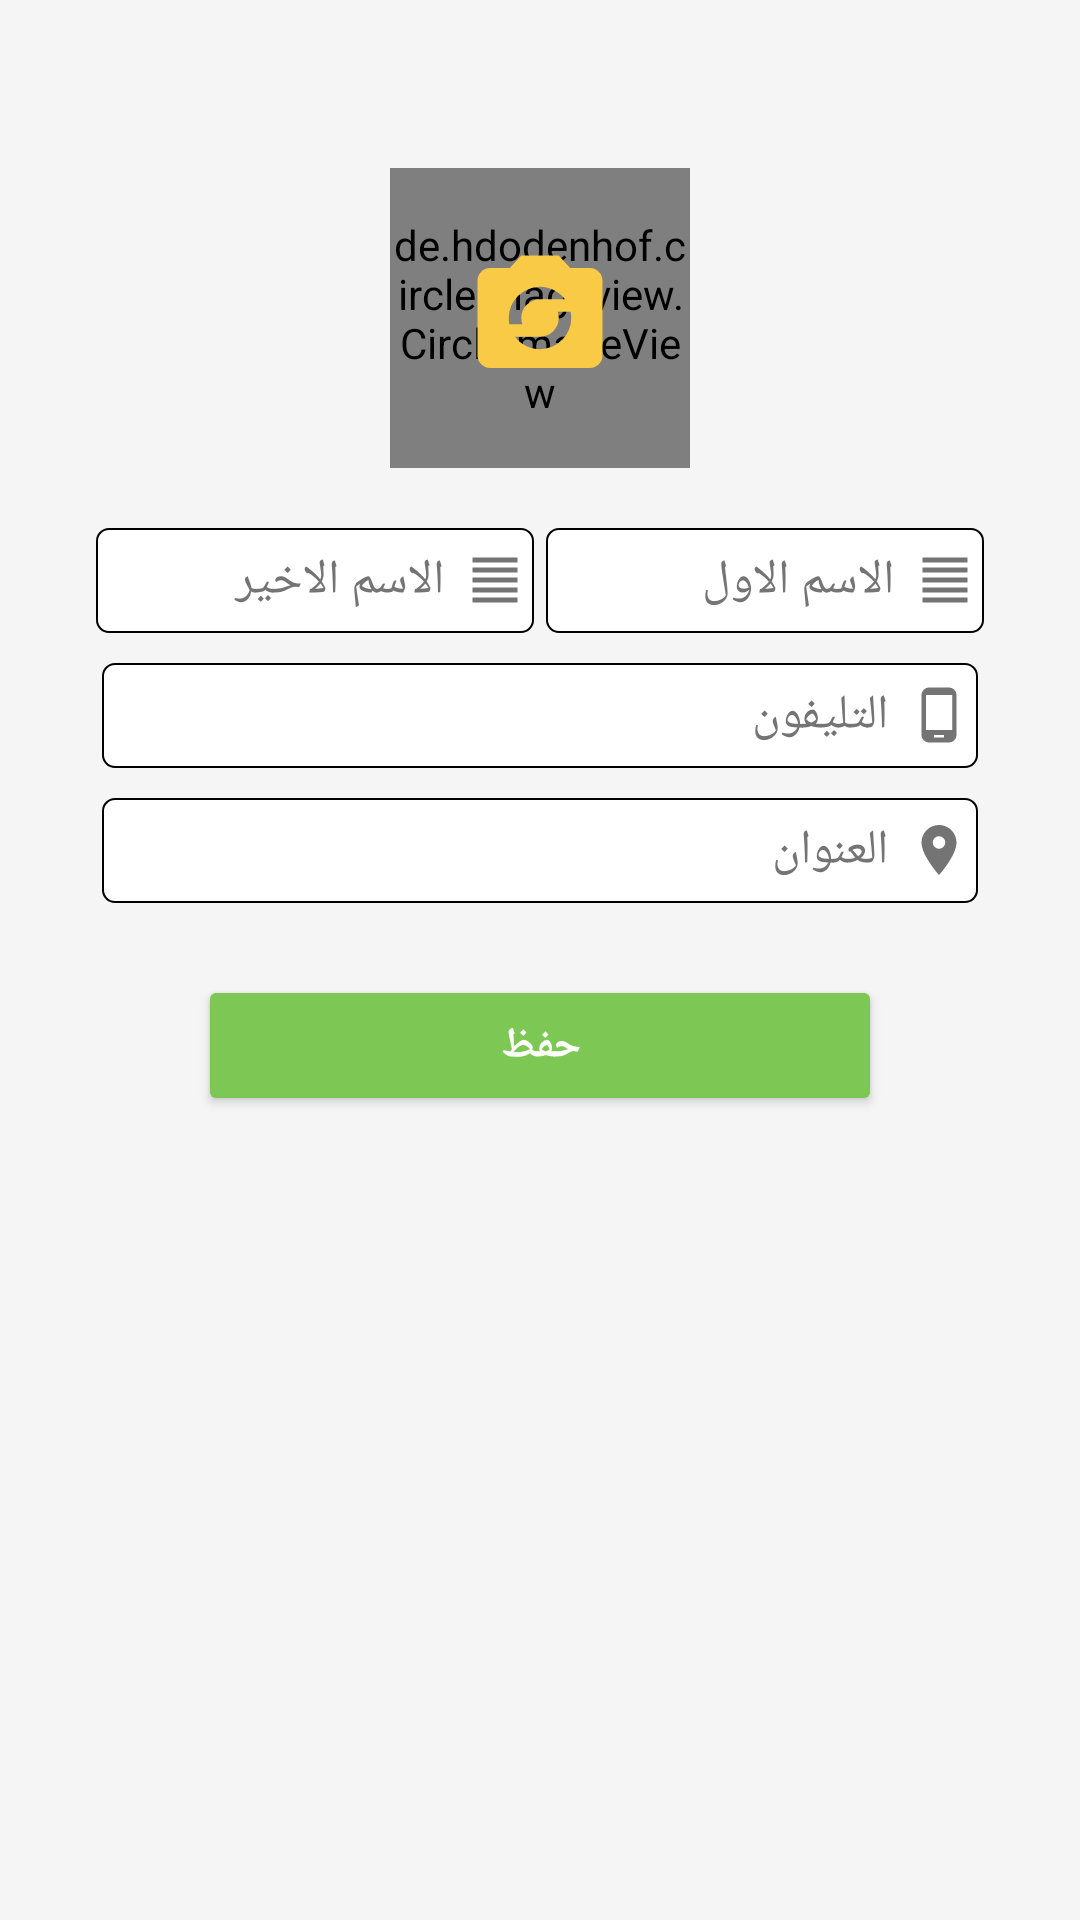

Named icons in this screenshot (1080*1920) and their centers, (x=x, y=y):
cellphone android: (x=939, y=715)
format align justify: (x=495, y=580), (x=945, y=580)
map marker: (x=939, y=850)
